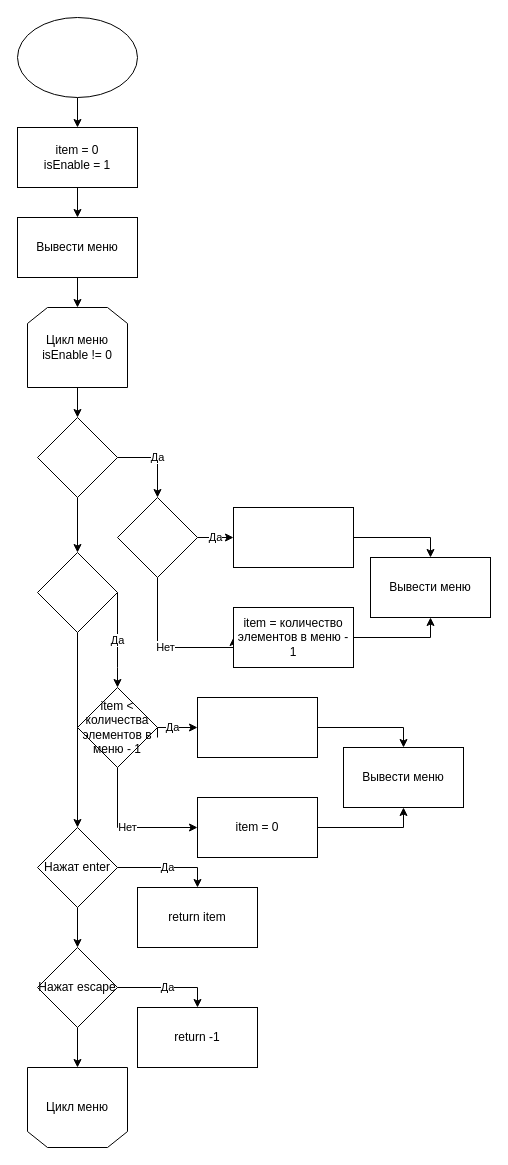
The diagram is 508 pixels wide and 1165 high, and some of its shapes have lost their labels. The shapes that lost their labels are listed below. From the top down, each one's centre as x and y in pixels, then its label:
At (x=77, y=57): "runMenu начало".
At (x=77, y=457): "Нажата стрелка вверх".
At (x=157, y=537): "item > 0".
At (x=293, y=537): "item -= 1".
At (x=77, y=592): "Нажата стрелка вниз".
At (x=257, y=727): "item += 1".
